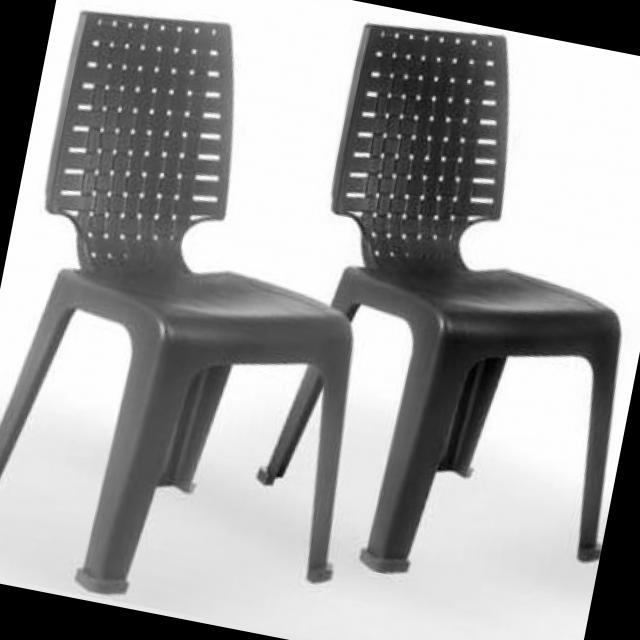chair: (0, 0, 433, 637), (239, 3, 640, 614)
